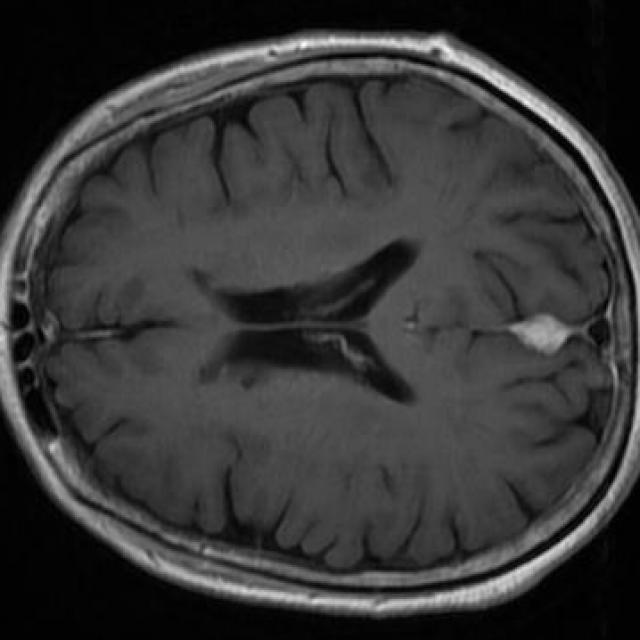meningioma: (508, 314, 574, 357)
